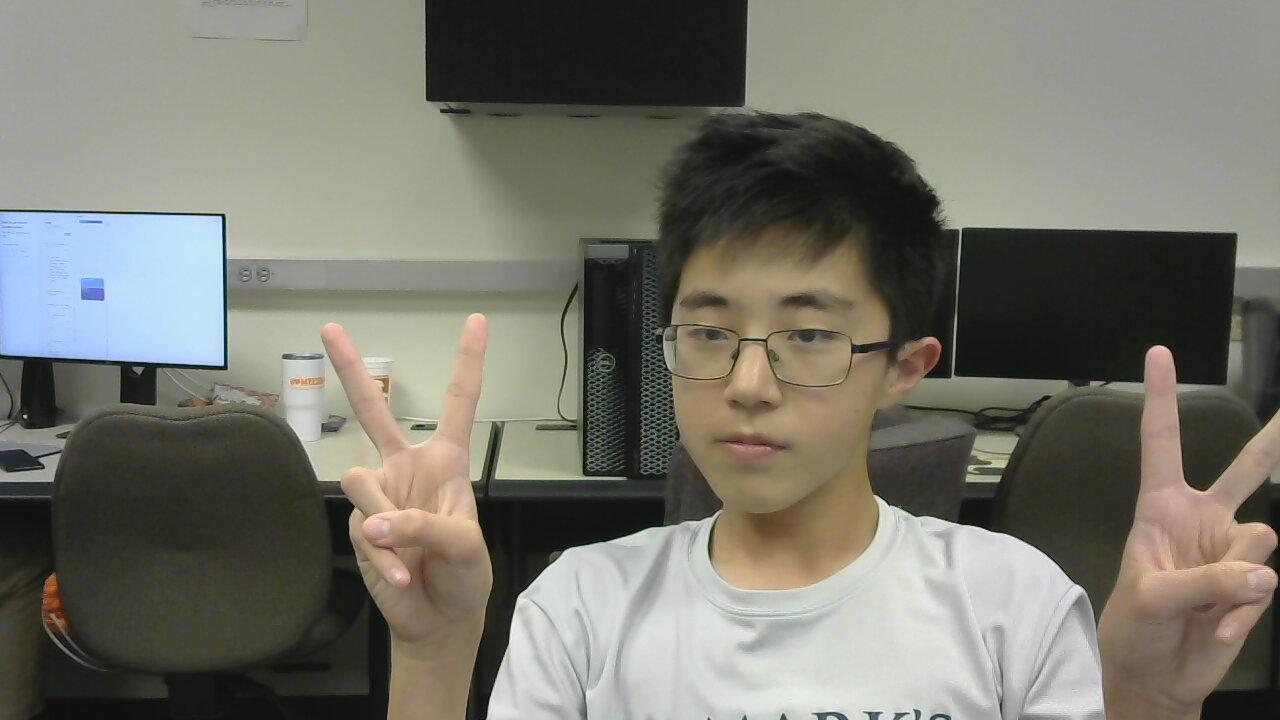peace: (293, 292, 547, 668), (1085, 329, 1280, 704)
